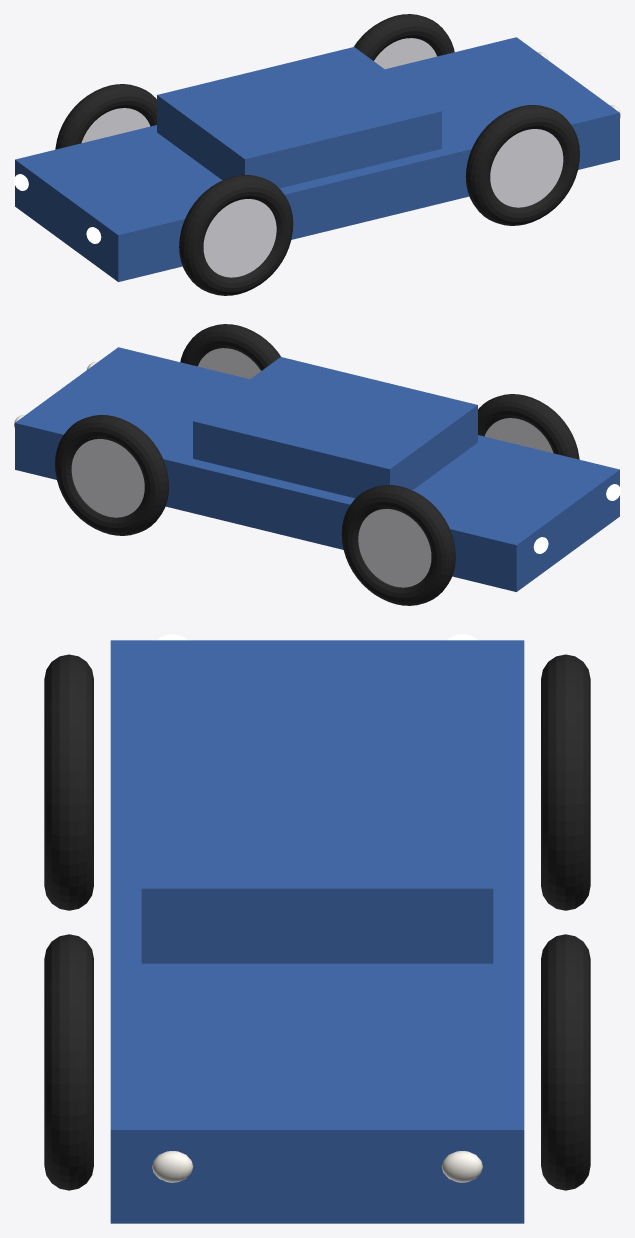
3 renders of one model, top to bottom at view 1: azimuth 30°, elevation 25°; view 2: azimuth 150°, elevation 25°; view 3: azimuth 270°, elevation 25°, orthographic. The views are drawn at different scales.
Visible parts, largest first — view 1: SportsCarBlue; view 2: SportsCarBlue; view 3: SportsCarBlue.
Part boxes in pixels (x1,y1,x2,y2): SportsCarBlue: (14,14,620,295); SportsCarBlue: (14,324,620,605); SportsCarBlue: (44,634,590,1223).
Bounding box in the file's own units: 5.92 × 1.24 × 2.64.
